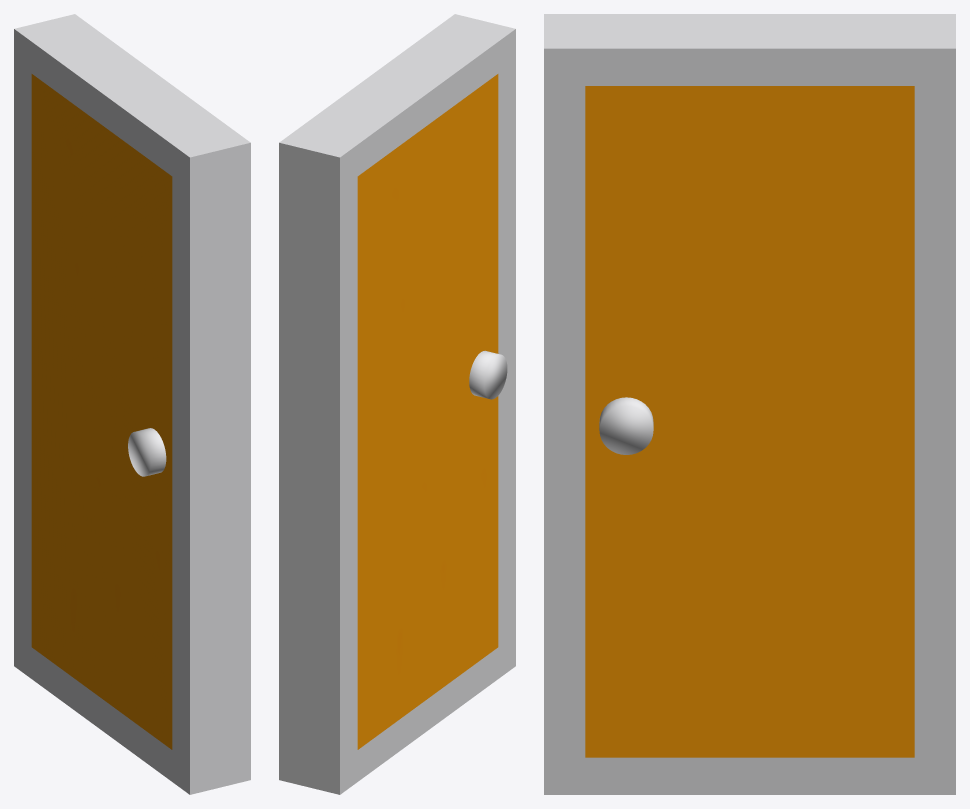
The model's file is Door.fbx.
3 renders of one model, left to right at view 1: azimuth 30°, elevation 25°; view 2: azimuth 150°, elevation 25°; view 3: azimuth 270°, elevation 25°, orthographic. The views are drawn at different scales.
Parts seen in each view (by area): view 1: Human Door; view 2: Human Door; view 3: Human Door.
Boxes of the visible parts, x1,y1,x2,y2 form: Human Door: [14, 14, 250, 794]; Human Door: [279, 14, 515, 794]; Human Door: [544, 14, 955, 794].
Size of the model in its own units: 30 by 200 by 100.
